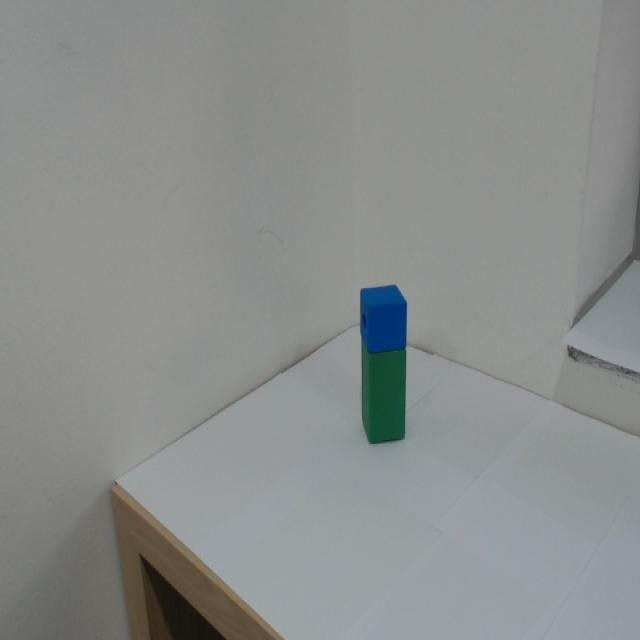cube: (351, 262, 427, 351)
